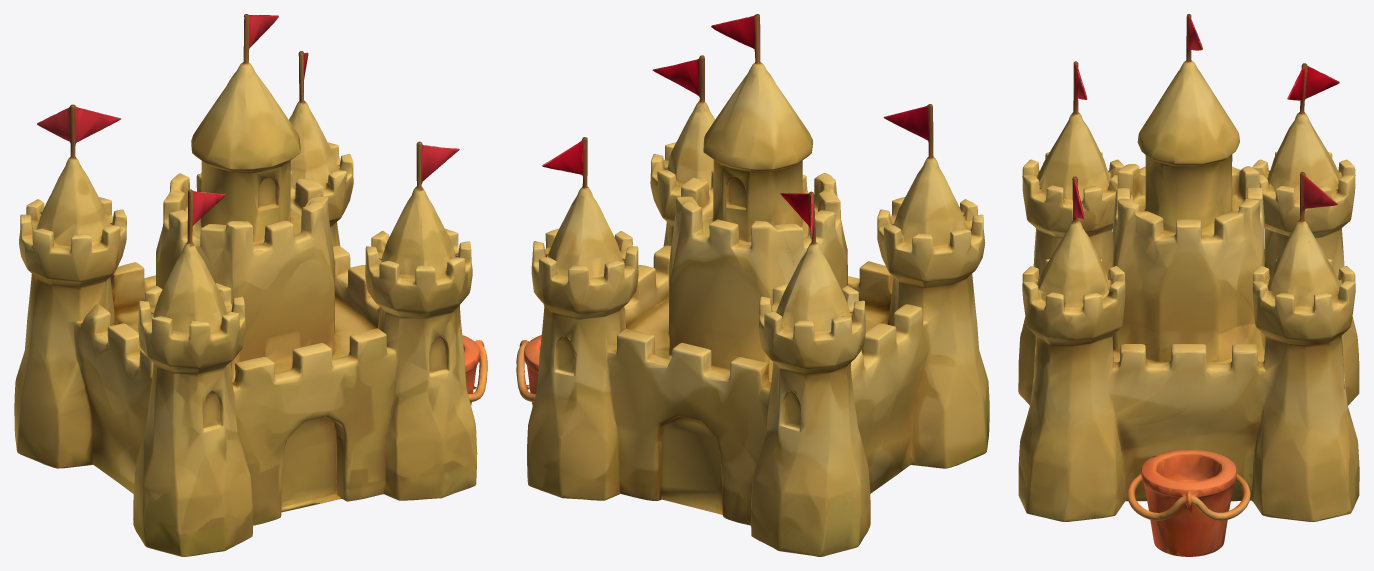
File: d09ff62f-dda2-4987-9500-9354ae5124f8.glb
The picture shows the model from 3 angles, left to right: view 1: azimuth 30°, elevation 25°; view 2: azimuth 150°, elevation 25°; view 3: azimuth 270°, elevation 25°; orthographic projection. The views are drawn at different scales.
Visible parts, largest first — view 1: Mesh_0; view 2: Mesh_0; view 3: Mesh_0.
Part boxes in pixels (box(x1,y1,x2,y2)): Mesh_0: box(14, 14, 487, 556); Mesh_0: box(516, 14, 989, 556); Mesh_0: box(1018, 14, 1359, 556).
Size of the model in its own units: 1.75 by 1.9 by 1.33.
1 material, 1 textured.
